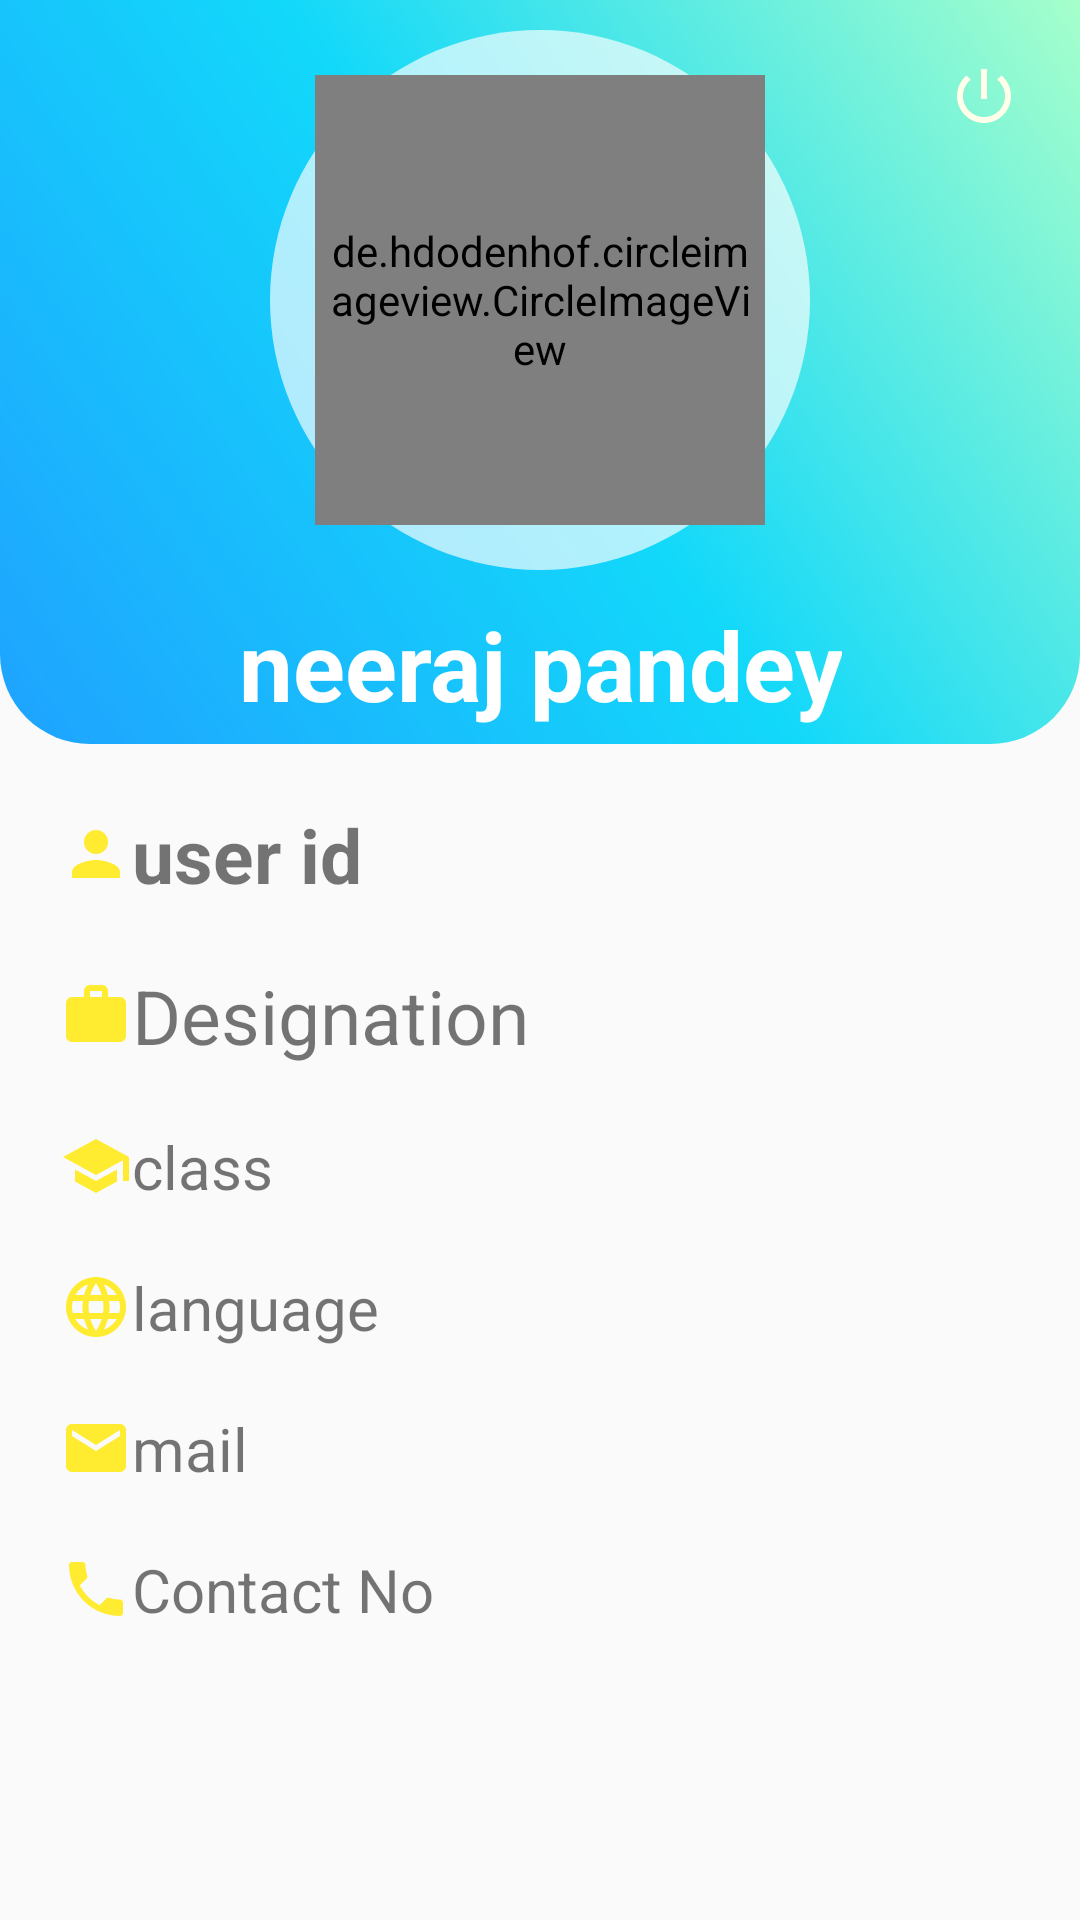

Icon bounding boxes for this 1080 x 1920 phone screenshot, format (x1, y1, x2, y2):
power settings: (957, 69, 1011, 123)
